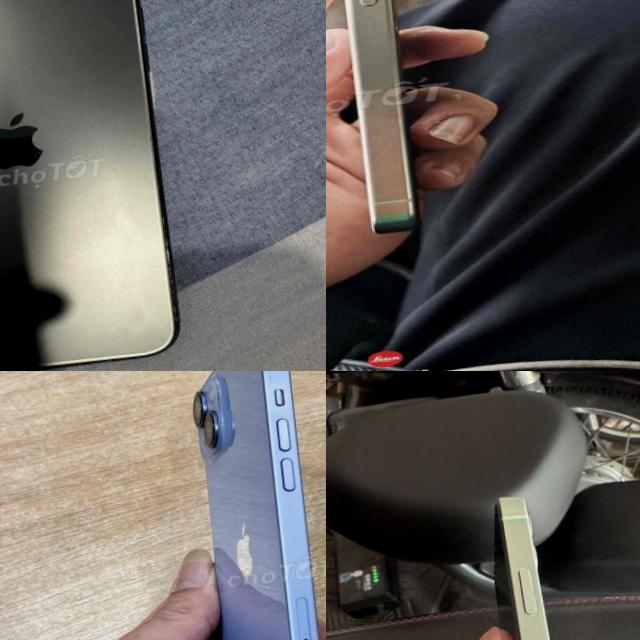gen_11: (0, 0, 190, 371)
gen_12_13: (468, 472, 616, 640)
gen_14: (175, 371, 326, 640)
gen_15: (326, 0, 477, 248)
